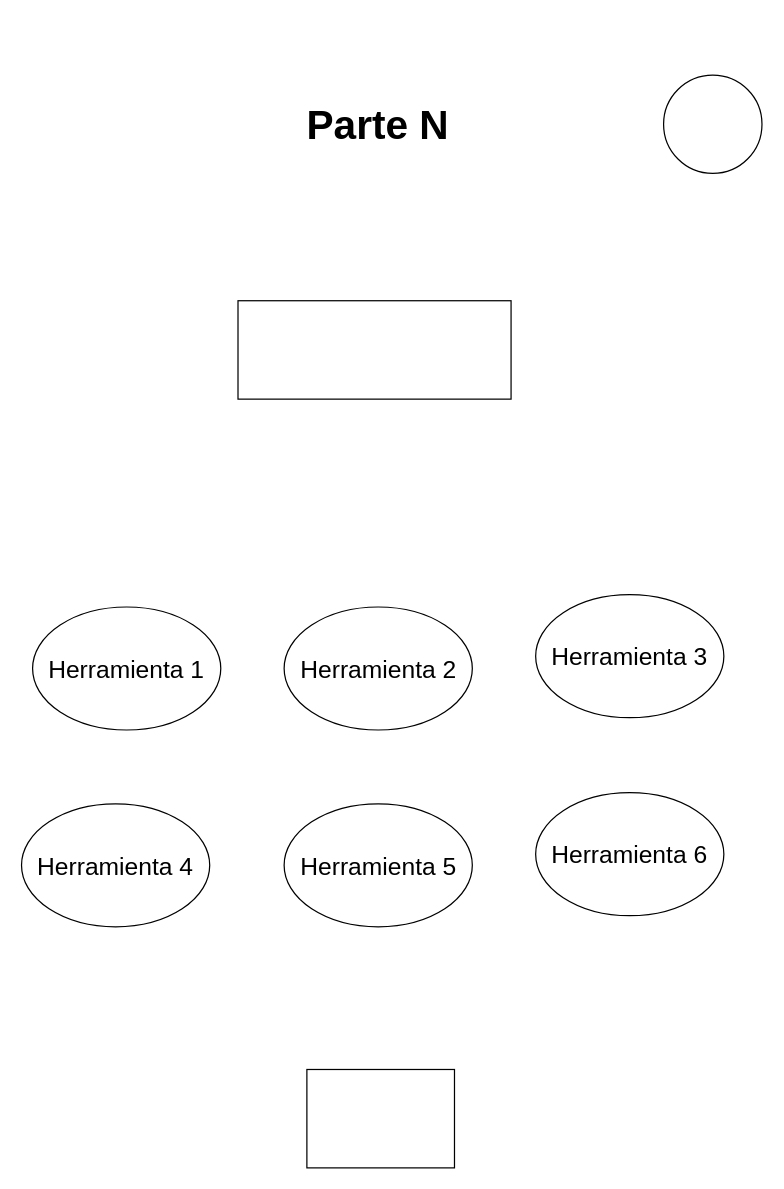
Some shapes in this 784 by 1189 pixel diagram are drawn without their labels. Here are the shapes that lost their labels. From the top down, the centre of each, then its label:
At point 712,123: "Ayuda".
At point 374,349: "Caballo".
At point 380,1118: "Siguente".
